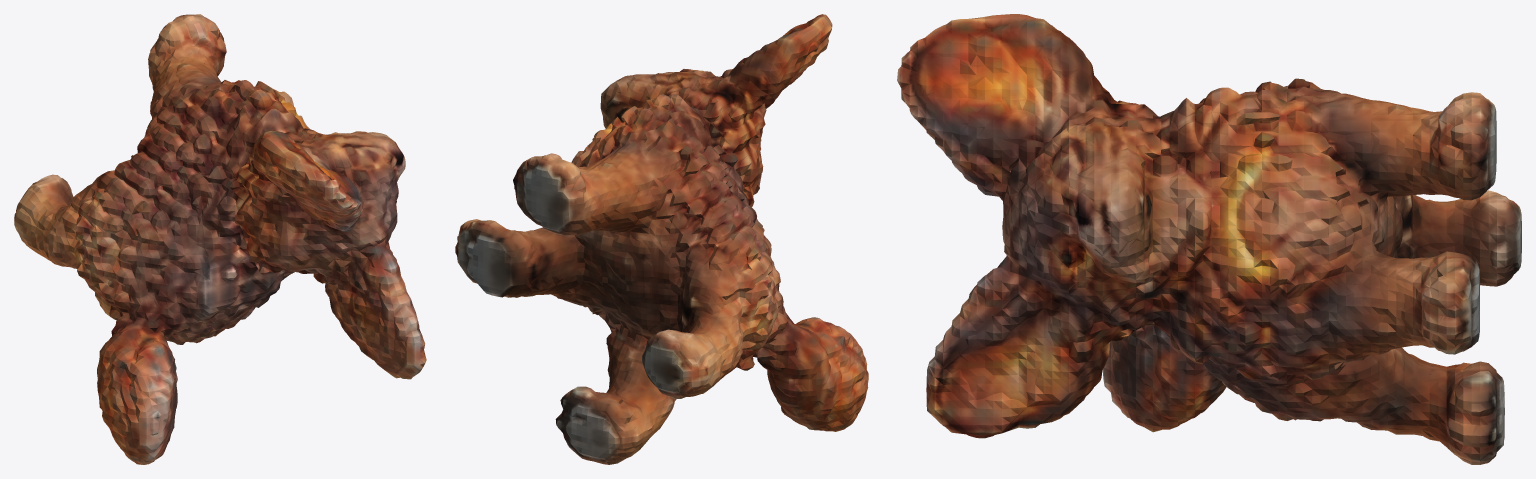
The model's file is candidate.glb.
The picture shows the model from 3 angles, left to right: view 1: azimuth 30°, elevation 25°; view 2: azimuth 150°, elevation 25°; view 3: azimuth 270°, elevation 25°; orthographic projection. The views are drawn at different scales.
Parts seen in each view (by area): view 1: textured; view 2: textured; view 3: textured.
Part boxes in pixels (x1,y1,x2,y2): textured: (14,14,426,464); textured: (455,14,868,464); textured: (897,14,1521,464).
Bounding box in the file's own units: 0.7501 × 0.8342 × 1.02.
Materials: 1 (1 with a texture image).
